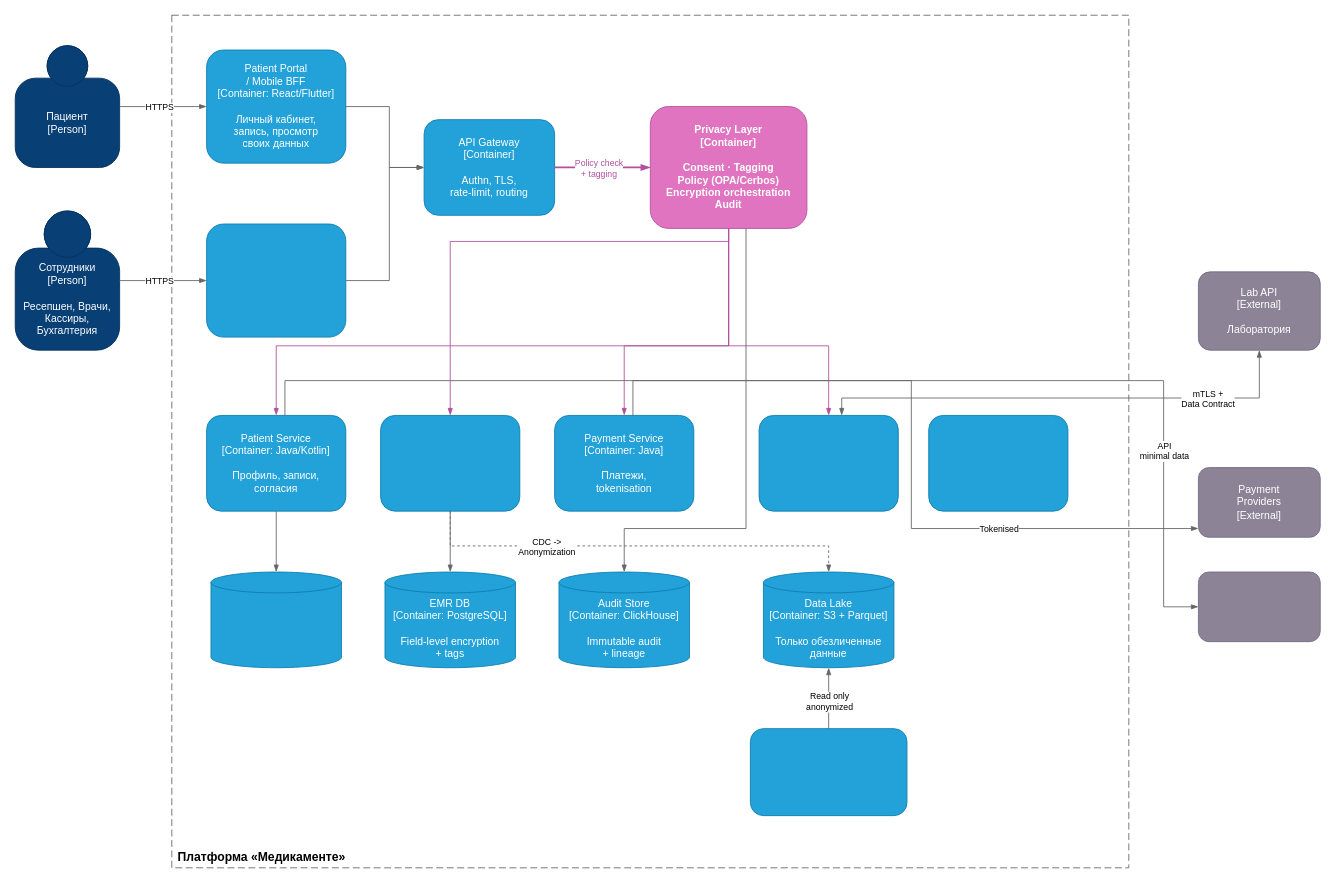
The diagram is 1335 pixels wide and 883 high, and some of its shapes have lost their labels. Here are the shapes that lost their labels. From the top down, the centre of each, then its label:
the point at 276,280: Staff Portal [Container: React] Рабочие места ресепшена, врачей, кассиров
the point at 450,463: EMR Service [Container: Java] Мед.карты, диагнозы, назначения
the point at 828,463: Lab Order Service [Container: Java] Направления и результаты анализов
the point at 998,463: Notification Service [Container: Go] Push / SMS / Робот
the point at 275,619: Patient DB [Container: PostgreSQL] Field-level encryption + tags
the point at 1259,606: 1С [External] Legacy
the point at 828,772: Analytics Platform [Container] BI / ML / LLM на обезличенных данных
